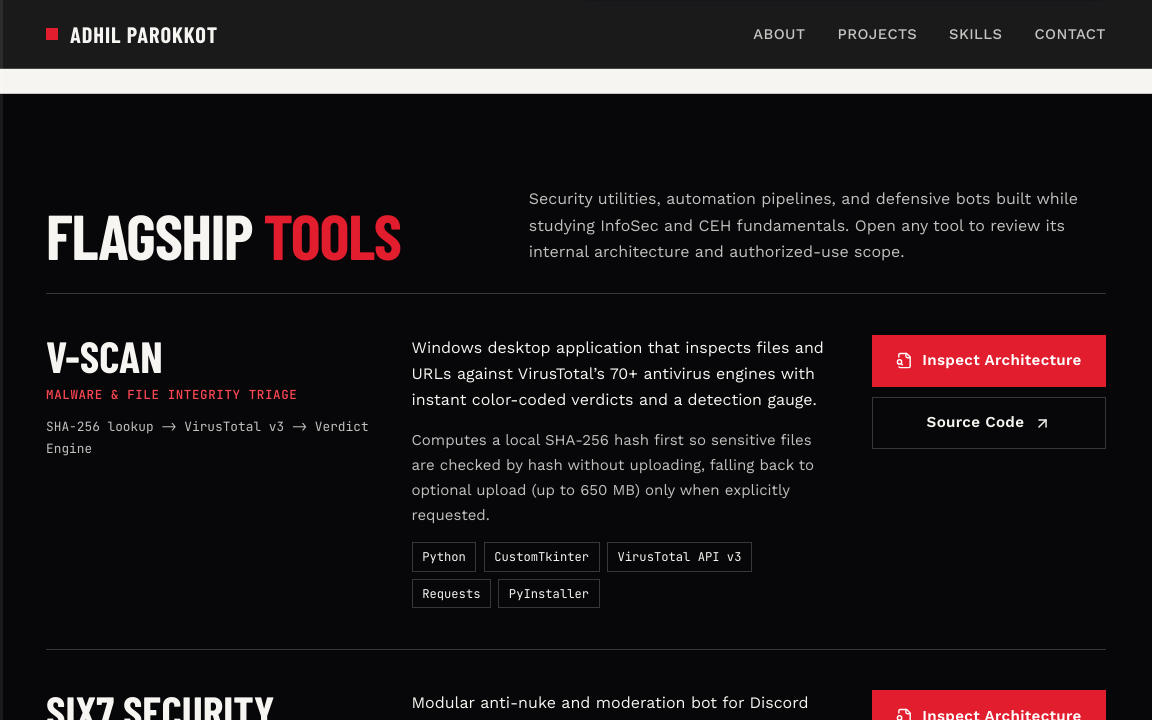
Adhil Parokkot Portfolio App › opens the architecture drawer for a flagship project and closes it on Escape
(page scrolled)
Click the 1st button "Inspect Architecture".
click(989, 361)  # box left=872, top=335, right=1106, bottom=387
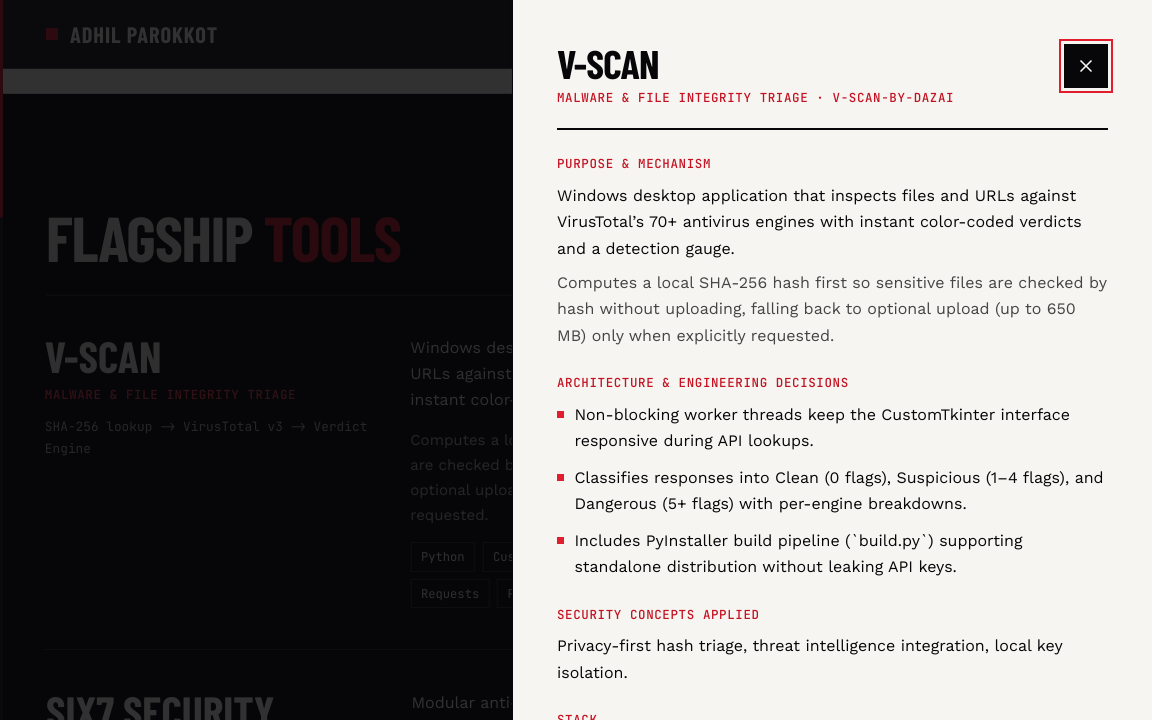
Expected: the dialog is shown, left=512, top=0, right=1151, bottom=719
Expected: the dialog shows "V-Scan", left=557, top=39, right=659, bottom=87
Expected: the dialog shows "SHA-256", left=557, top=273, right=1106, bottom=345
Press Escape
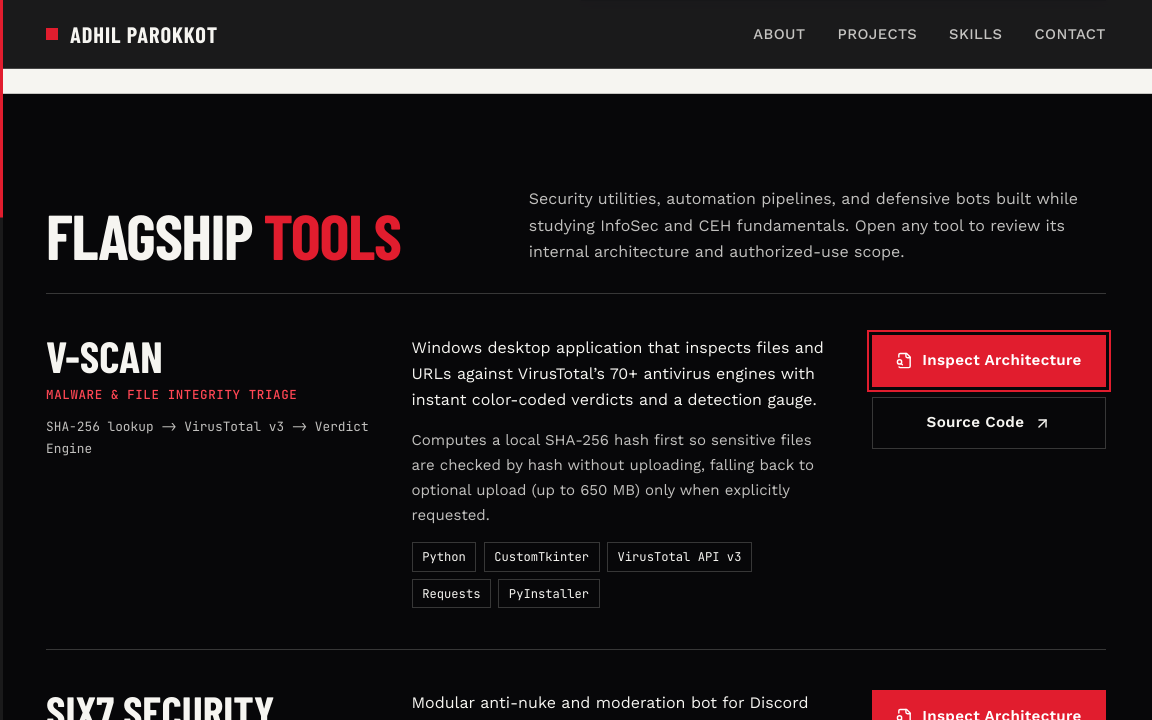
Expected: the dialog is gone
